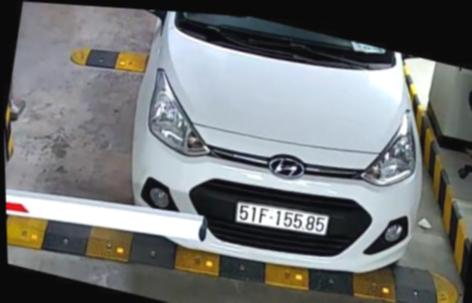License_Plate: (231, 189, 344, 260)
